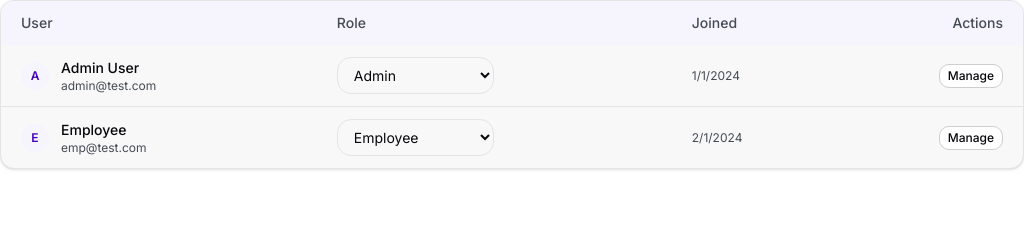
UserTable › shows inline error when role update fails
Expected: the text "emp@test.com" is shown, [61,140,146,156]
Select "Course Manager" in the dropdown named "Role for Employee" at (415, 138), box [337,119,494,156]
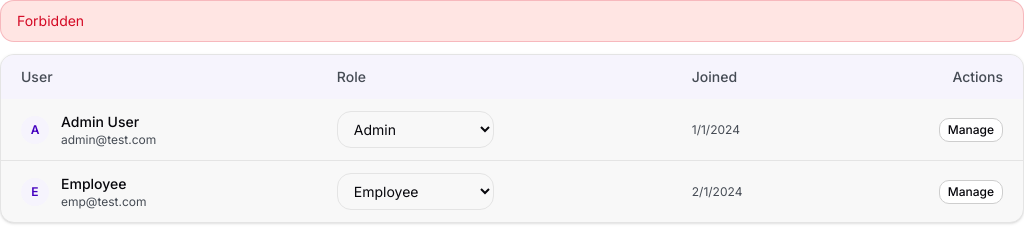
Expected: the text "Forbidden" is shown, [0,0,1023,42]
